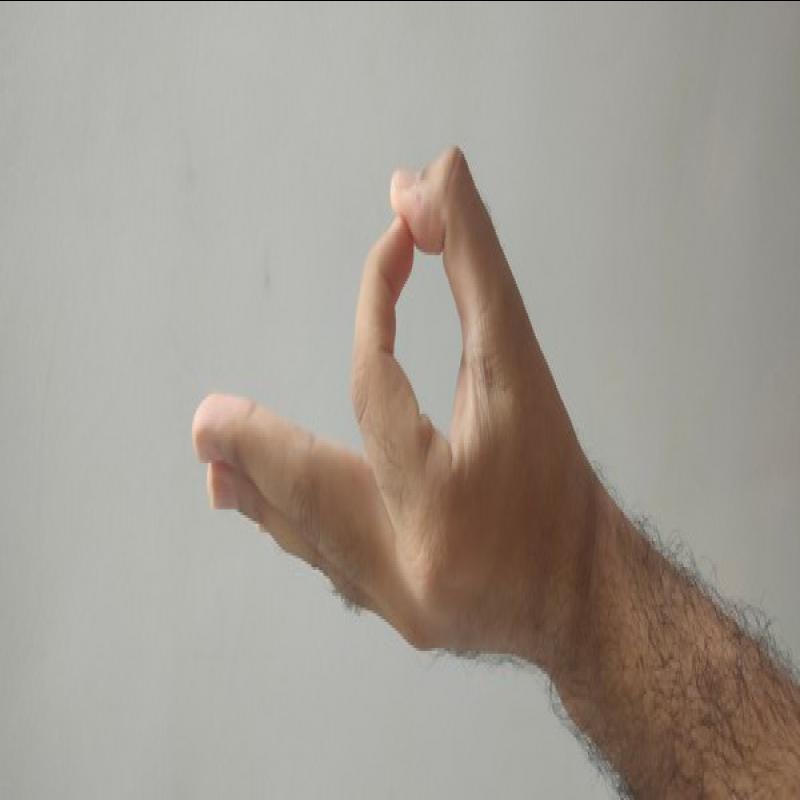Mudraakhyam: (158, 119, 588, 687)
